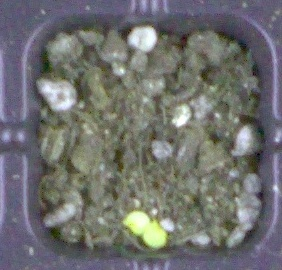chilli seed: (122, 210, 151, 234), (143, 221, 168, 248)
